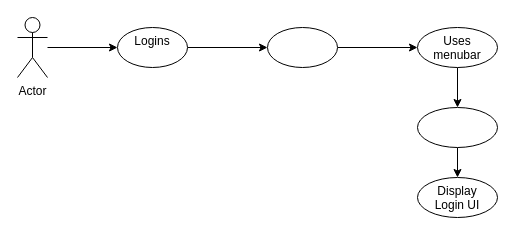
This 515x235 diagram has some shape labels left out. Here are the shapes that lost their labels. From the top down, the centre of each, then its label:
the point at 302,47: Access MainUI
the point at 457,127: press LogOut
